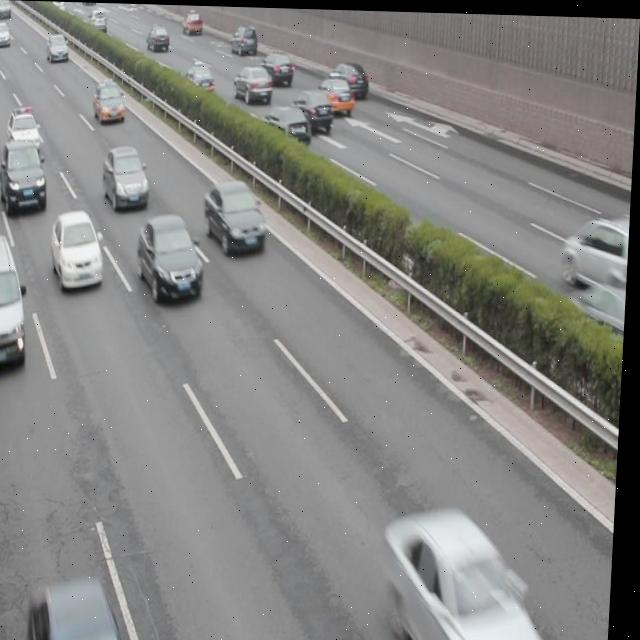car: (386, 503, 566, 640), (31, 573, 140, 640), (138, 209, 209, 305), (204, 174, 269, 255), (562, 211, 632, 285), (53, 209, 109, 293), (1, 137, 52, 216), (103, 142, 153, 211), (259, 104, 313, 151), (289, 87, 333, 131), (313, 71, 355, 115), (8, 105, 44, 156), (233, 61, 273, 105), (328, 58, 370, 99), (93, 78, 127, 125), (177, 58, 216, 97), (258, 48, 295, 88)
truck: (0, 232, 33, 374)
